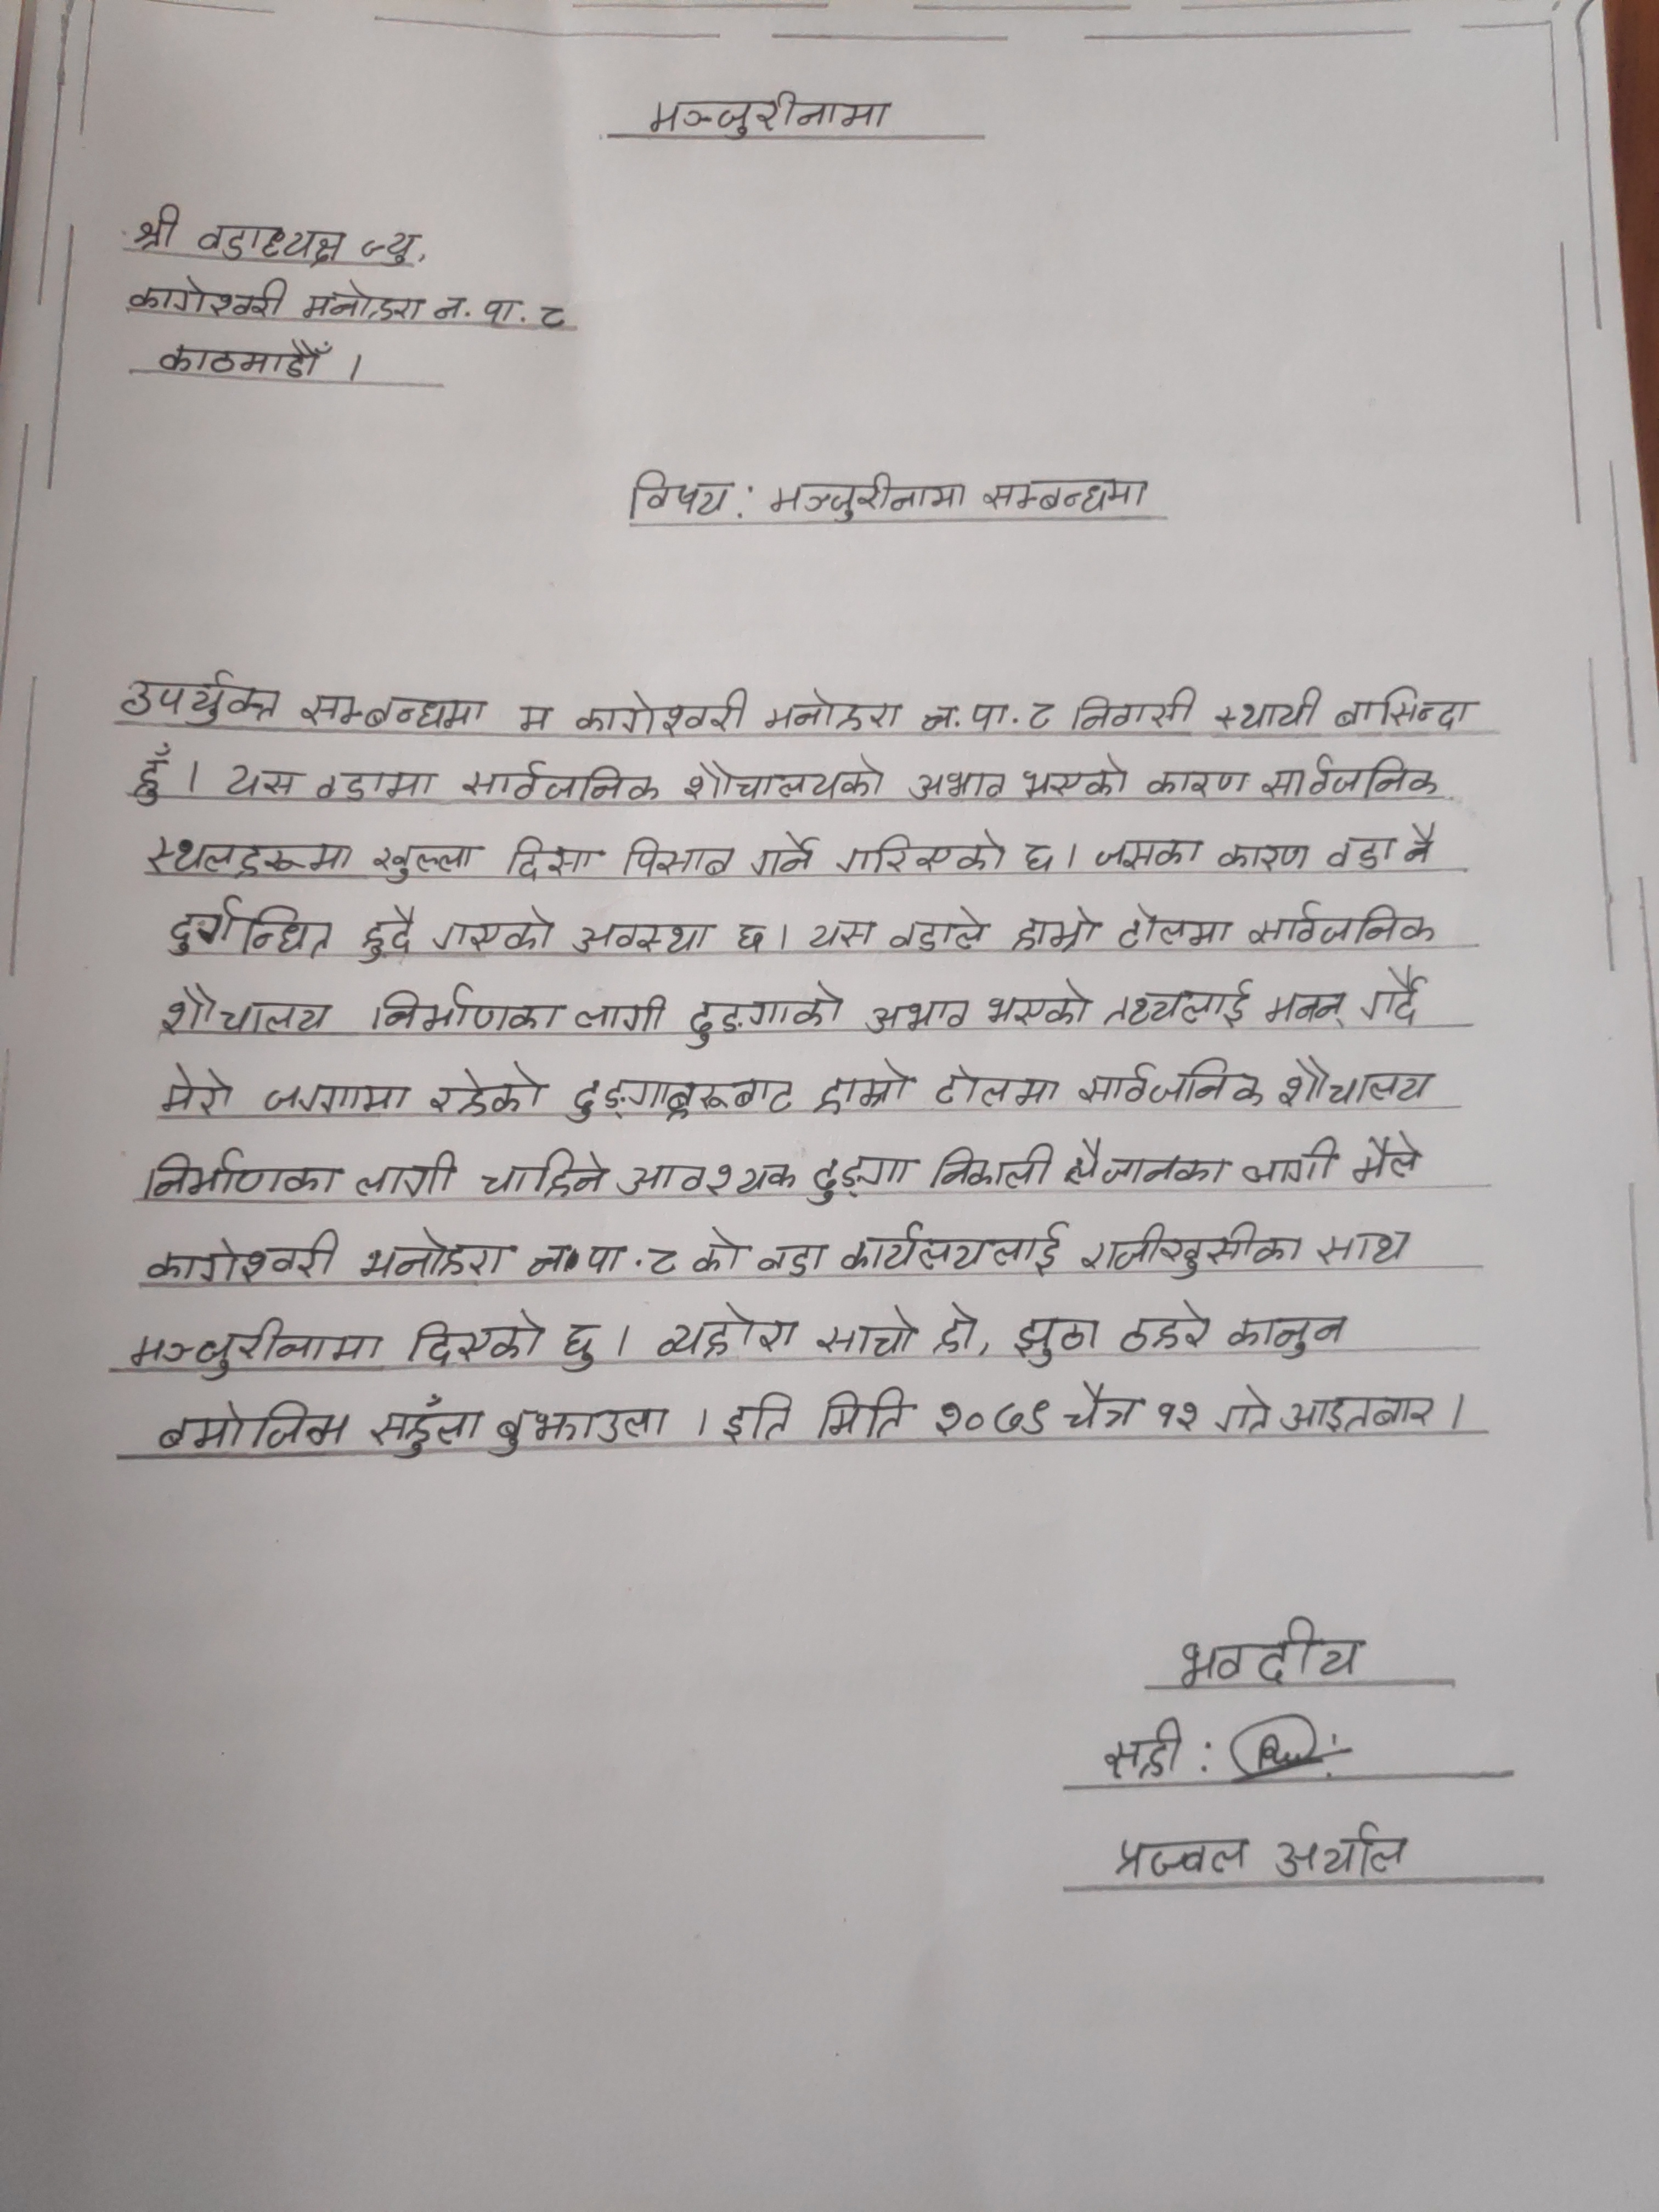text: (127, 1315, 382, 1376), (641, 89, 897, 148), (1173, 1618, 1364, 1693), (843, 1219, 1070, 1278), (1077, 1221, 1304, 1278), (486, 1400, 669, 1465), (152, 1400, 352, 1458), (157, 899, 338, 961), (685, 981, 845, 1050), (458, 754, 664, 806), (678, 759, 889, 810), (1243, 895, 1443, 948), (368, 979, 566, 1031), (568, 1078, 795, 1123), (1070, 1059, 1270, 1109), (575, 681, 756, 737), (1258, 747, 1439, 803), (112, 674, 286, 732), (143, 834, 356, 881), (138, 1150, 342, 1198), (119, 261, 286, 320), (157, 979, 340, 1033), (141, 1233, 336, 1284), (295, 685, 488, 735), (148, 331, 338, 381), (1269, 1818, 1419, 1881), (762, 475, 971, 519), (1274, 1050, 1431, 1108), (650, 1303, 798, 1362), (369, 1392, 486, 1467), (195, 214, 347, 272), (1065, 1139, 1234, 1190), (1331, 681, 1476, 738), (474, 1146, 617, 1204), (410, 1305, 547, 1364), (835, 831, 1011, 876), (972, 474, 1150, 517), (1276, 1388, 1439, 1435), (1107, 1834, 1255, 1885), (1225, 1305, 1352, 1362), (1105, 981, 1253, 1029), (362, 1230, 511, 1277), (927, 1144, 1054, 1198), (617, 1160, 802, 1197), (812, 1054, 911, 1120), (298, 282, 427, 333), (436, 906, 556, 960), (765, 686, 903, 733), (626, 465, 737, 523), (1215, 685, 1330, 740), (566, 918, 711, 961), (931, 1392, 1054, 1442), (260, 1078, 410, 1118), (1114, 1299, 1215, 1359), (427, 1068, 547, 1116), (352, 1150, 460, 1204), (1014, 756, 1127, 806), (1073, 688, 1204, 732), (373, 834, 474, 890), (312, 761, 434, 806), (805, 1157, 918, 1205), (929, 1069, 1066, 1109), (812, 1308, 920, 1359), (1091, 831, 1206, 878), (819, 1388, 913, 1446), (1114, 907, 1237, 951), (985, 977, 1087, 1029), (1011, 1313, 1105, 1369), (1239, 1137, 1342, 1188), (1105, 1714, 1183, 1780), (617, 840, 735, 883), (566, 986, 673, 1033), (155, 1061, 239, 1120), (1011, 900, 1103, 953), (504, 829, 601, 878), (1349, 1130, 1425, 1191), (885, 909, 992, 953), (1058, 1378, 1145, 1430), (1262, 986, 1358, 1033), (1361, 965, 1432, 1028), (1213, 833, 1314, 876), (1145, 763, 1253, 803), (523, 1231, 626, 1273), (432, 286, 519, 334), (908, 765, 1009, 805), (863, 1000, 972, 1036), (356, 216, 429, 270), (356, 902, 420, 963), (913, 695, 1012, 733), (1316, 1230, 1424, 1264), (925, 1299, 981, 1364), (749, 831, 816, 885), (723, 1392, 791, 1442), (1213, 1385, 1276, 1439), (124, 197, 188, 249), (227, 756, 300, 798), (129, 740, 173, 808), (525, 300, 589, 345), (552, 1322, 606, 1376), (753, 1240, 826, 1278), (685, 1230, 746, 1275), (805, 914, 877, 951), (1324, 834, 1401, 867), (1012, 690, 1072, 732), (1405, 812, 1443, 871), (629, 1240, 678, 1280), (1148, 1399, 1204, 1433), (511, 702, 558, 737), (1021, 836, 1061, 876), (732, 921, 775, 956)
